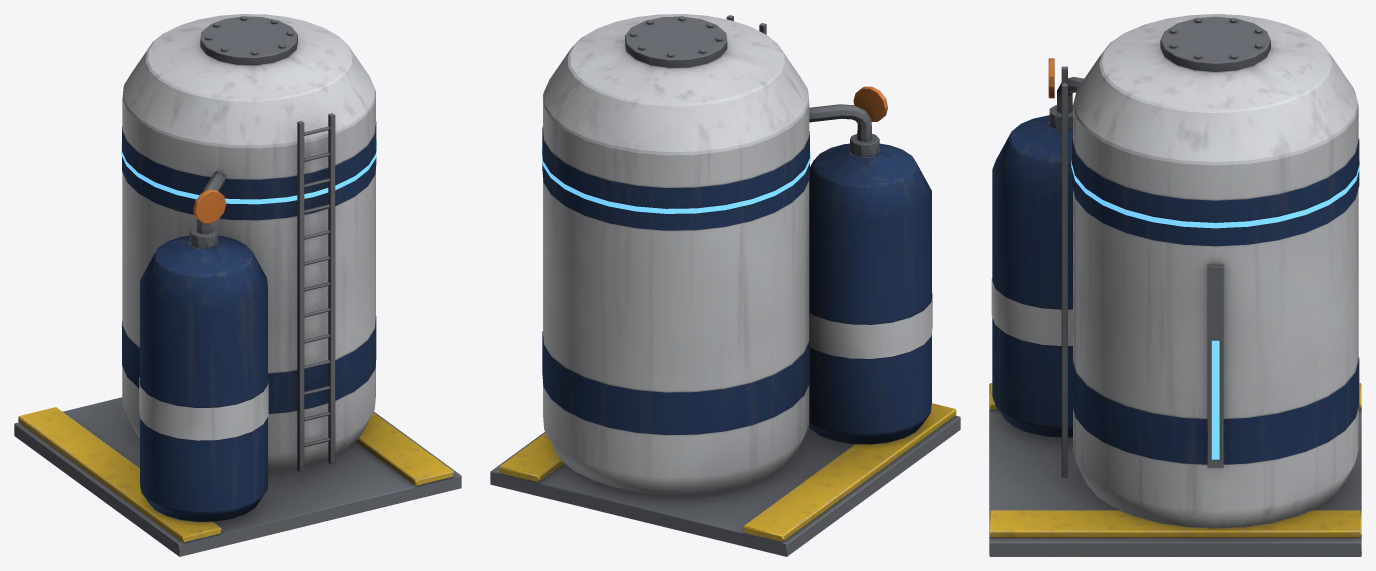
File: 整備庫_38_雙聯儲槽.glb
3 renders of one model, left to right at view 1: azimuth 30°, elevation 25°; view 2: azimuth 150°, elevation 25°; view 3: azimuth 270°, elevation 25°, orthographic. The views are drawn at different scales.
Parts seen in each view (by area): view 1: Tank_twin_Mesh; view 2: Tank_twin_Mesh; view 3: Tank_twin_Mesh.
Part boxes in pixels (box(x1,y1,x2,y2)): Tank_twin_Mesh: box(14, 14, 461, 556); Tank_twin_Mesh: box(490, 14, 960, 556); Tank_twin_Mesh: box(989, 14, 1361, 556).
Size of the model in its own units: 3.71 by 5.03 by 3.7.
2 materials, 1 textured.
